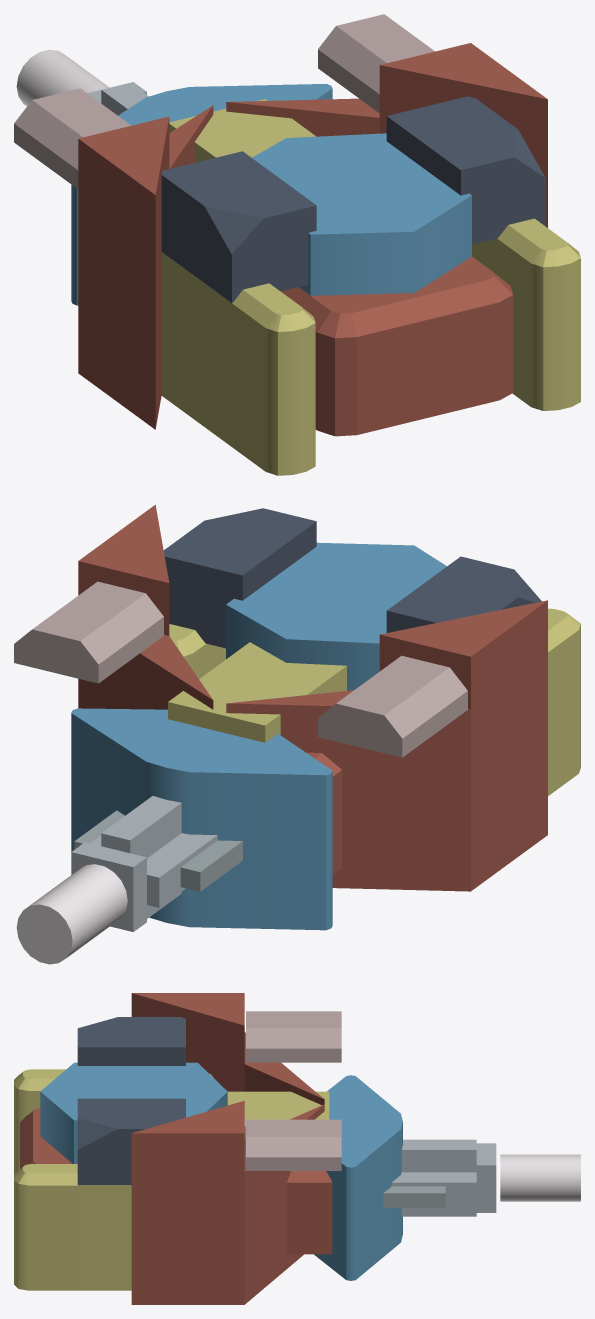
Rendered from port35.fbx.
3 renders of one model, top to bottom at view 1: azimuth 30°, elevation 25°; view 2: azimuth 150°, elevation 25°; view 3: azimuth 270°, elevation 25°, orthographic. The views are drawn at different scales.
Parts seen in each view (by area): view 1: polySurface410; view 2: polySurface410; view 3: polySurface410.
Boxes of the visible parts, box(x1,y1,x2,y2) form: polySurface410: box(14, 14, 580, 475); polySurface410: box(14, 504, 580, 964); polySurface410: box(14, 993, 580, 1304).
Size of the model in its own units: 28 by 16 by 47.91.
